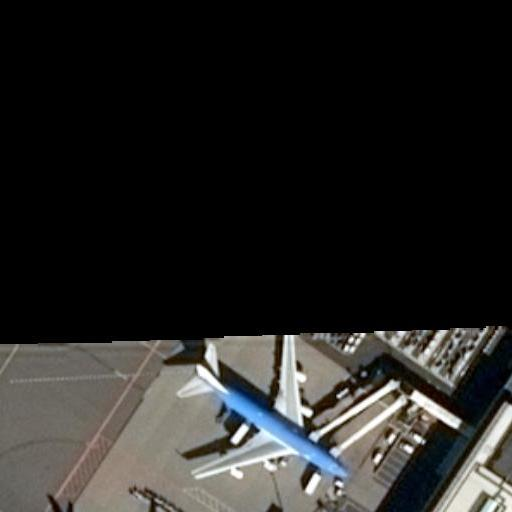Aircraft: (166, 333, 353, 489), (41, 500, 221, 512)
